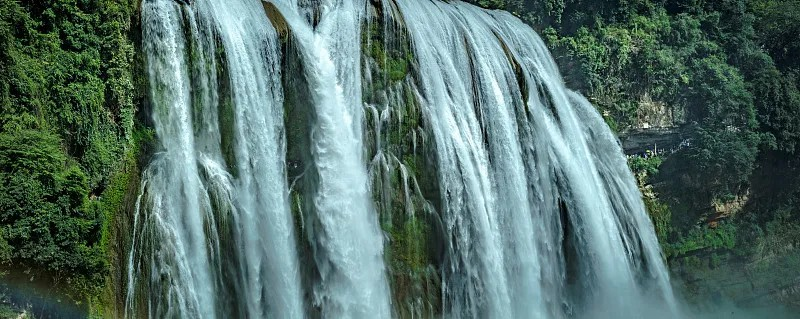Huangguoshu: (128, 1, 675, 319)
